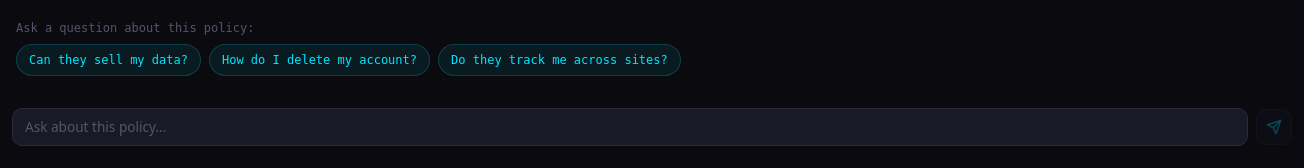
Test: PolicyChat › shows error when API returns non-ok response
The width and height of the screenshot is (1304, 168).
In the field with placeholder "Ask about this policy...": (630, 127) [12,108,1248,146], type "Bad request"
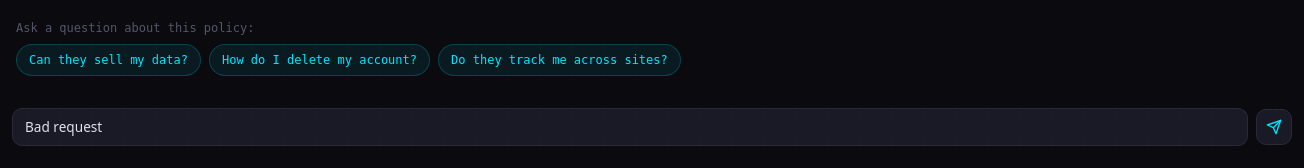
Click the button named "Send message": (1274, 127) [1256,109,1292,145]
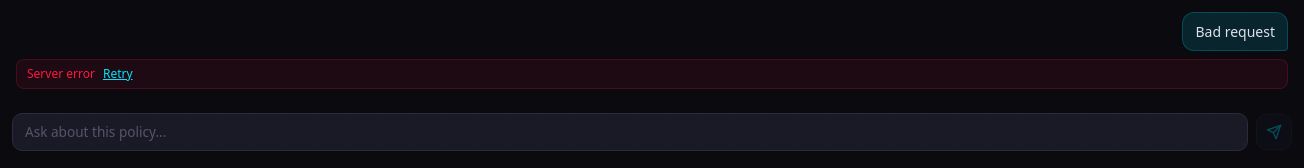
Check: the text "Server error" is shown, box [27,66,95,82]
